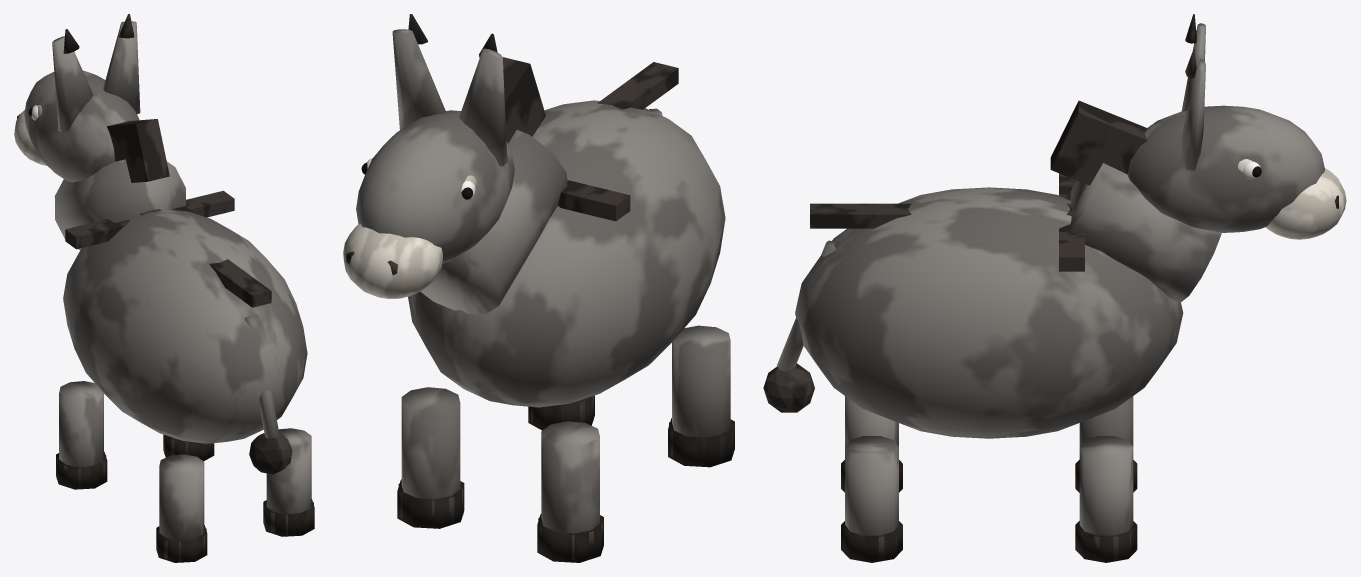
Rendered from donkey.glb.
3 renders of one model, left to right at view 1: azimuth 30°, elevation 25°; view 2: azimuth 150°, elevation 25°; view 3: azimuth 270°, elevation 25°, orthographic. The views are drawn at different scales.
Visible parts, largest first — view 1: donkey; view 2: donkey; view 3: donkey.
Part boxes in pixels (x1=…): donkey: x1=14, y1=14, x2=314, y2=562; donkey: x1=343, y1=14, x2=734, y2=562; donkey: x1=763, y1=14, x2=1346, y2=562.
Bounding box in the file's own units: 0.704 × 1.56 × 1.69.
Materials: 6 (6 with a texture image).
